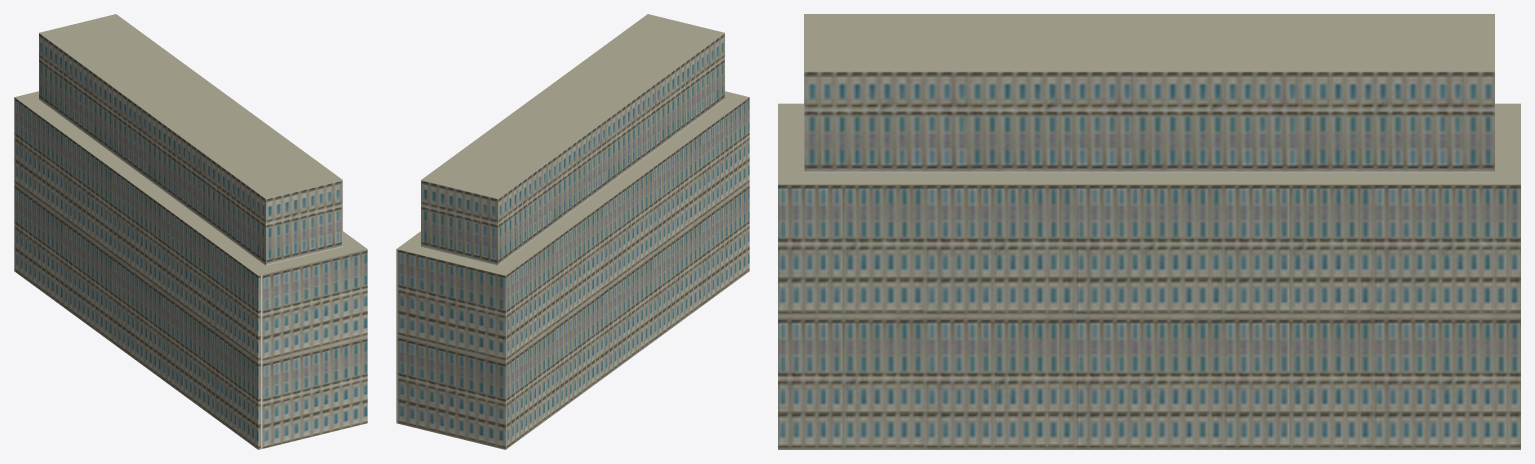
Rendered from ml_ksh.glb.
3 renders of one model, left to right at view 1: azimuth 30°, elevation 25°; view 2: azimuth 150°, elevation 25°; view 3: azimuth 270°, elevation 25°, orthographic. The views are drawn at different scales.
Visible parts, largest first — view 1: Cube.001; view 2: Cube.001; view 3: Cube.001.
Part boxes in pixels (bbox=[...]): Cube.001: bbox=[14, 14, 367, 449]; Cube.001: bbox=[396, 14, 749, 449]; Cube.001: bbox=[778, 14, 1520, 449].
Size of the model in its own units: 2 by 4.21 by 7.73.
Materials: 1 (1 with a texture image).
